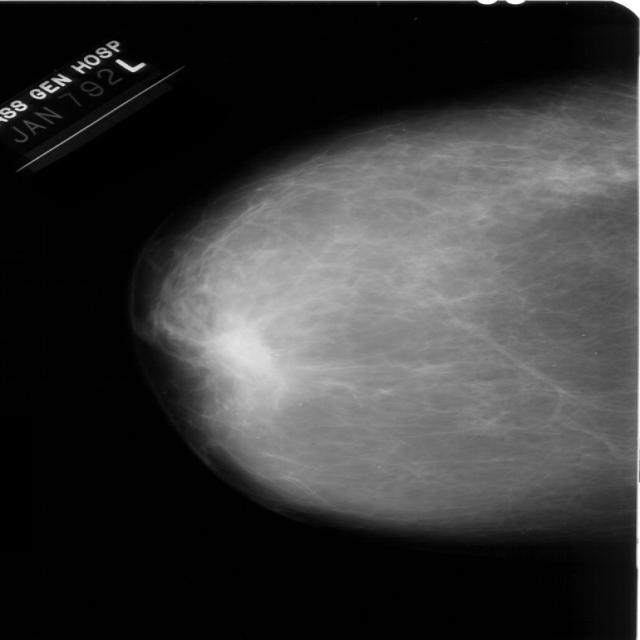tumour: (217, 327, 272, 369)
